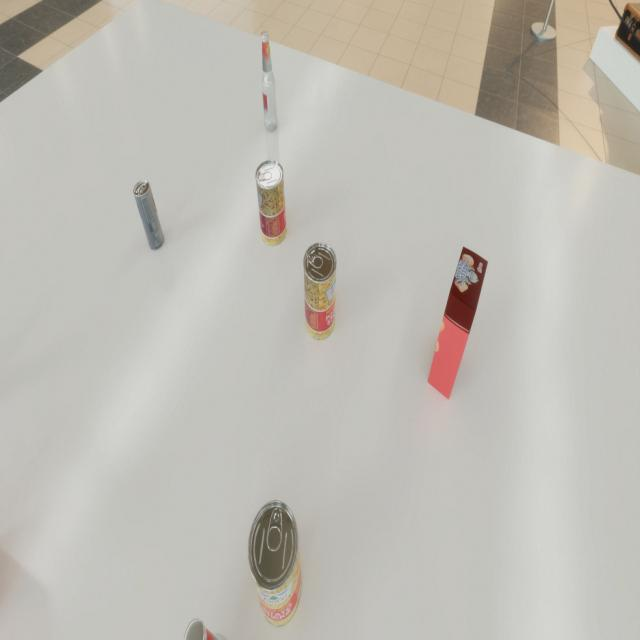Bottle: (261, 31, 278, 132)
HelloPanda: (428, 246, 488, 399)
Potato_sticks: (248, 500, 302, 627), (303, 242, 337, 340), (255, 160, 287, 246)
Rita_zero_sugar: (133, 180, 164, 250)
